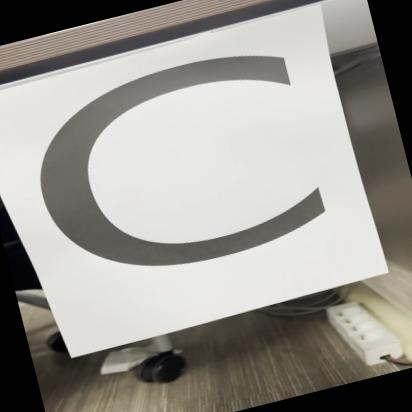seat: (0, 0, 410, 365)
